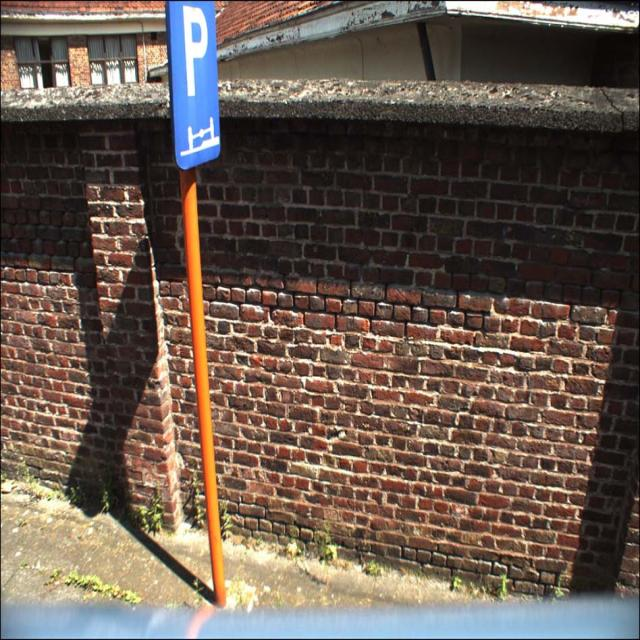park: (167, 1, 218, 112)
